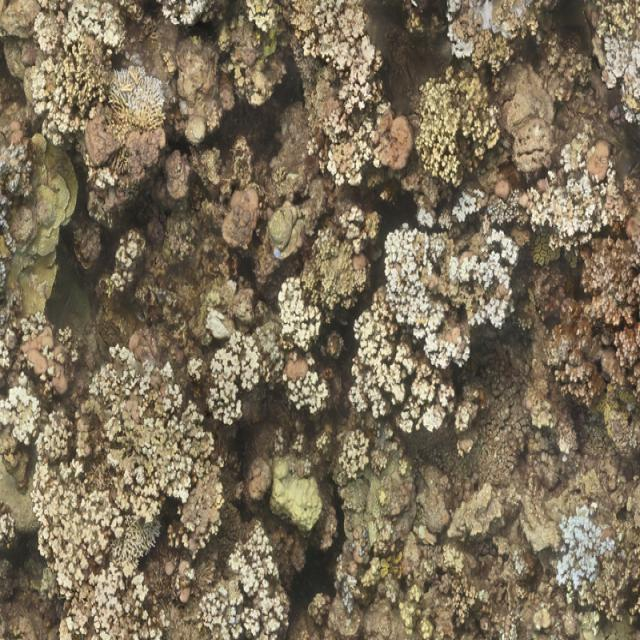Bleached Coral: (386, 221, 456, 360), (453, 224, 525, 329), (211, 545, 289, 640), (552, 504, 619, 592), (445, 0, 497, 67)
